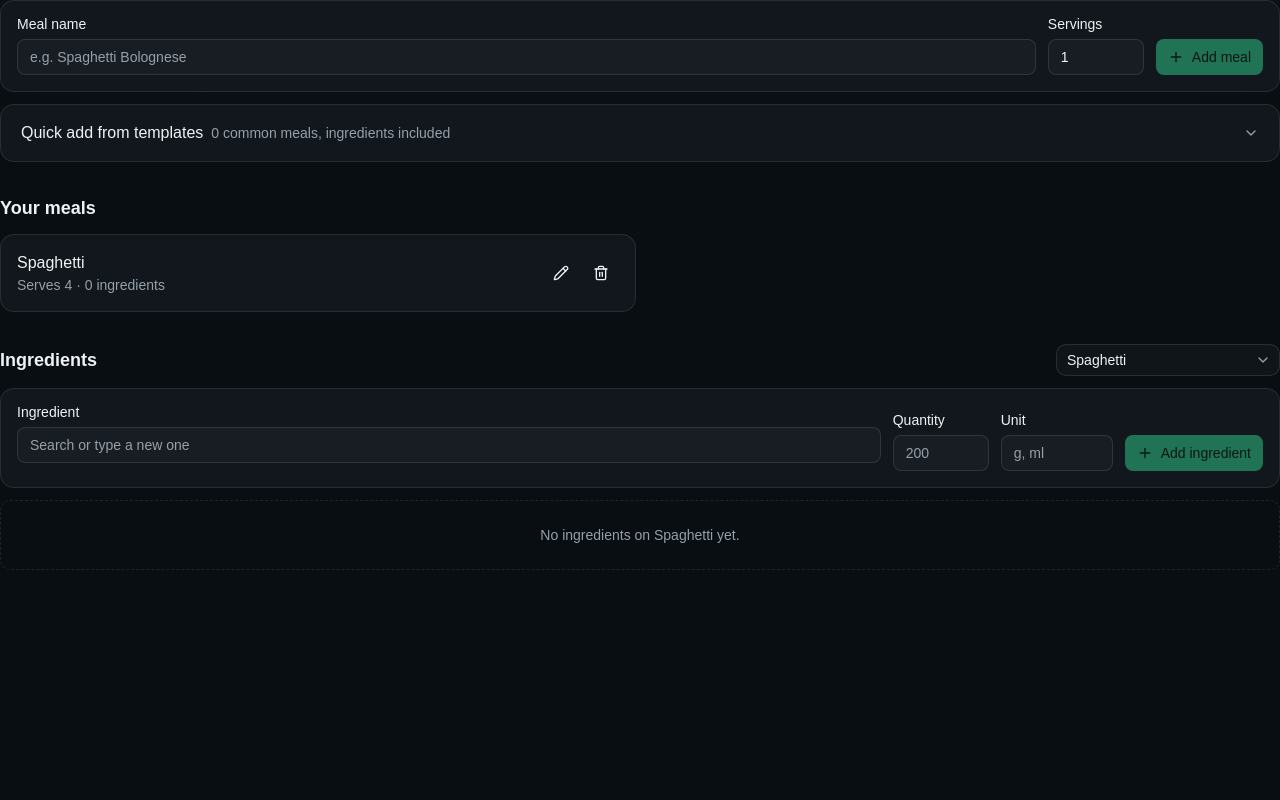
Test: deleting a meal › asks for confirmation before deleting
This screenshot has width=1280, height=800.
What coordinates should you click on to do the following:
click the button named "Delete Spaghetti"
I would click on:
 (601, 273)
Its box is [583,255,619,291].
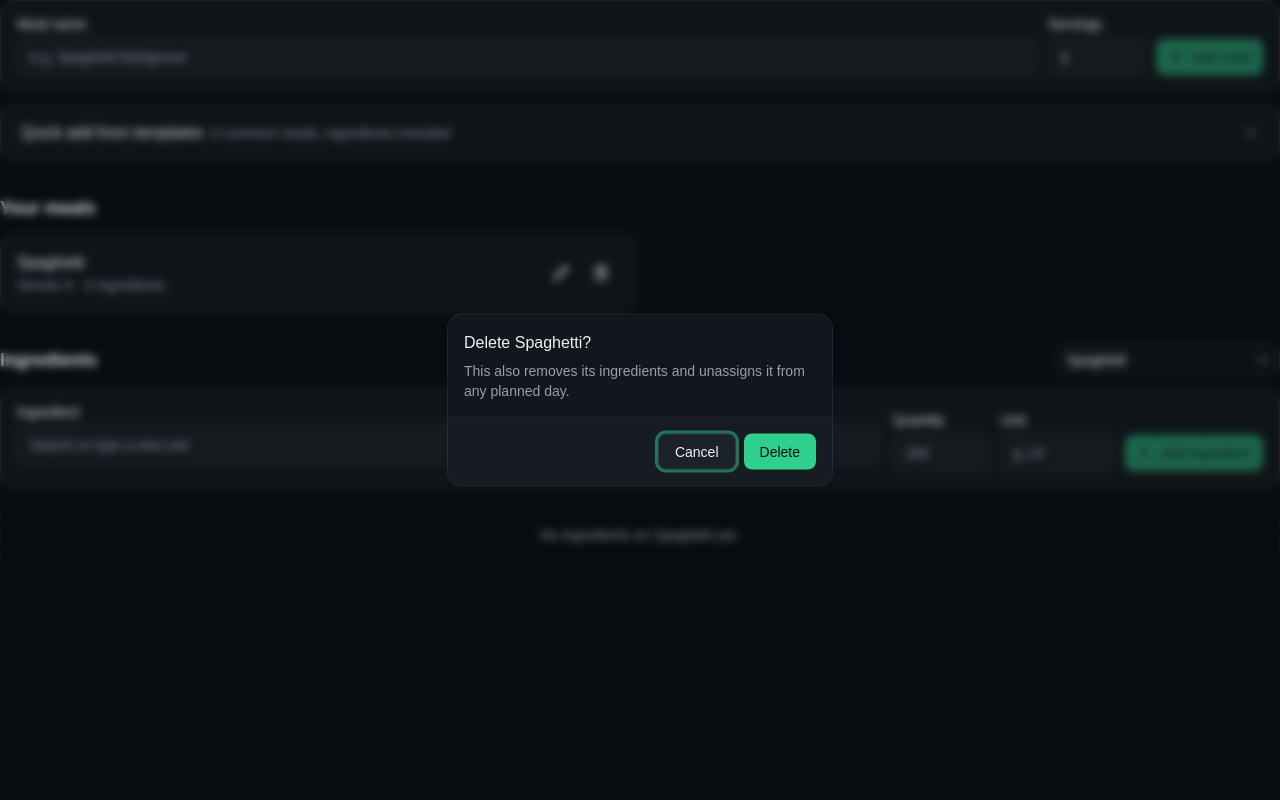
Result: the dialog is shown at [448,314,832,486]
